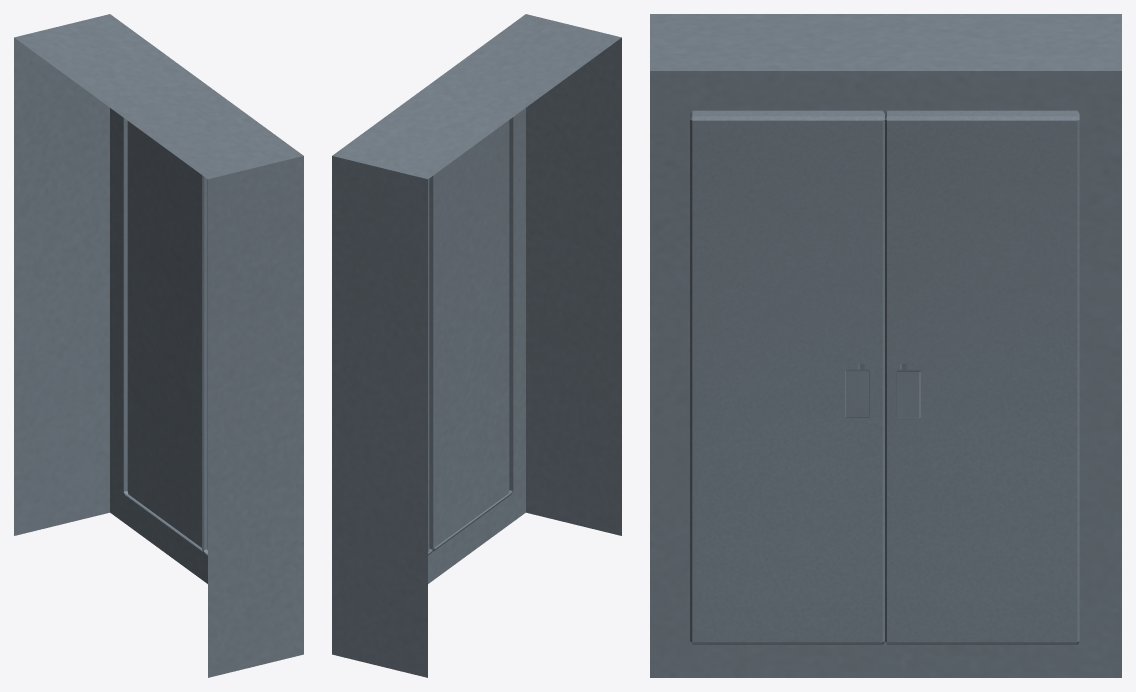
The model's file is metal_cabinet.fbx.
3 renders of one model, left to right at view 1: azimuth 30°, elevation 25°; view 2: azimuth 150°, elevation 25°; view 3: azimuth 270°, elevation 25°, orthographic. The views are drawn at different scales.
Parts seen in each view (by area): view 1: metal_cabinet; view 2: metal_cabinet; view 3: metal_cabinet.
Part boxes in pixels (x1,y1,x2,y2): metal_cabinet: (14,14,303,677); metal_cabinet: (332,14,621,677); metal_cabinet: (650,14,1121,677).
Bounding box in the file's own units: 62.58 × 248 × 175.
Materials: 1 (1 with a texture image).
